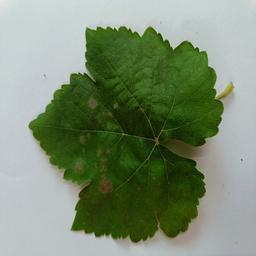Powdery-Mildew: (83, 95, 118, 126), (123, 43, 154, 70), (67, 154, 92, 177), (98, 170, 115, 195), (179, 203, 191, 216)
